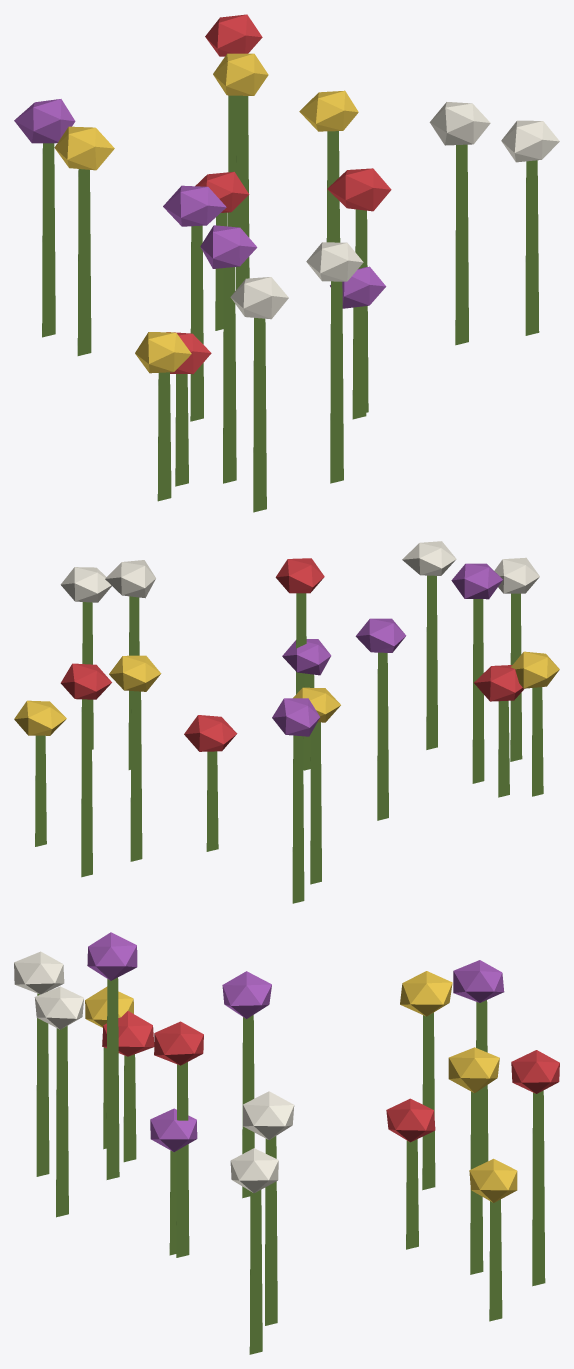
The model's file is nat-flores.gltf.
3 views of the same model, one above another, from view 1: azimuth 30°, elevation 25°; view 2: azimuth 150°, elevation 25°; view 3: azimuth 270°, elevation 25° (orthographic). The views are drawn at different scales.
Parts seen in each view (by area): view 1: nat-flores; view 2: nat-flores; view 3: nat-flores.
Part boxes in pixels (x1,y1,x2,y2): nat-flores: (14, 14, 559, 512); nat-flores: (14, 541, 559, 903); nat-flores: (14, 932, 559, 1354).
Size of the model in its own units: 0.7426 by 0.3663 by 0.7607.
